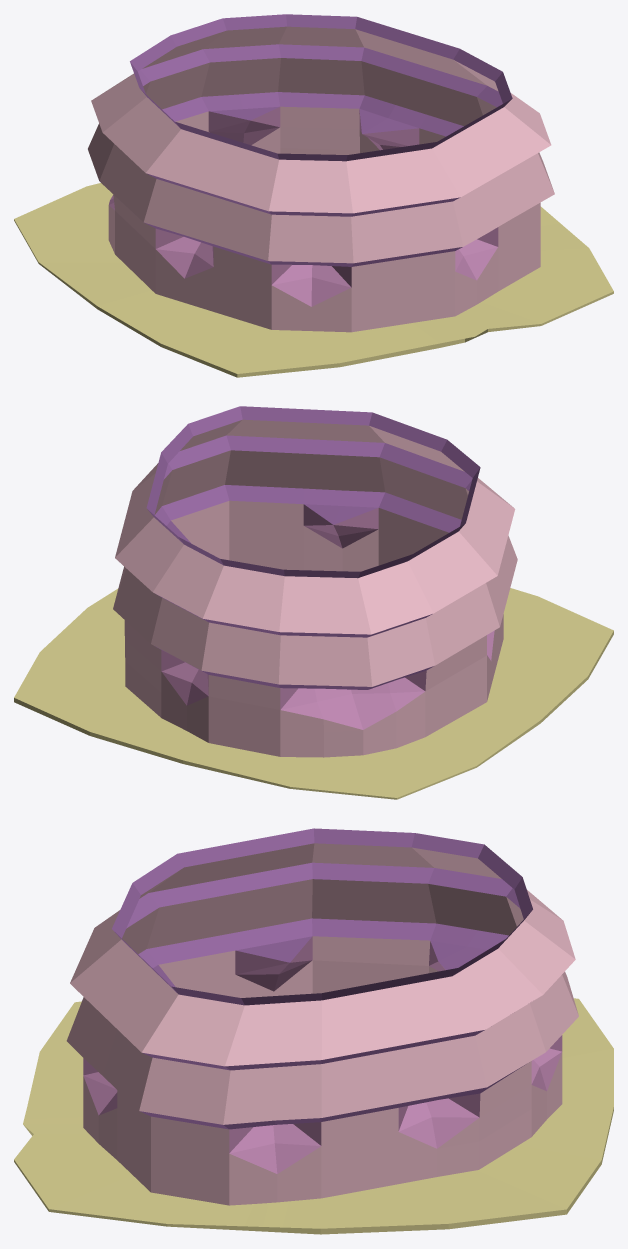
Rendered from Colosseum_level.glb.
3 views of the same model, one above another, from view 1: azimuth 30°, elevation 25°; view 2: azimuth 150°, elevation 25°; view 3: azimuth 270°, elevation 25° (orthographic). The views are drawn at different scales.
Parts seen in each view (by area): view 1: Walls, Floor; view 2: Walls, Floor; view 3: Walls, Floor.
Boxes of the visible parts, x1,y1,x2,y2 form: Walls: (88,14,554,332); Floor: (14,183,613,377); Walls: (113,406,517,757); Floor: (14,588,613,799); Walls: (66,828,578,1205); Floor: (14,998,613,1234).
Bounding box in the file's own units: 55.59 × 22.99 × 56.88.
